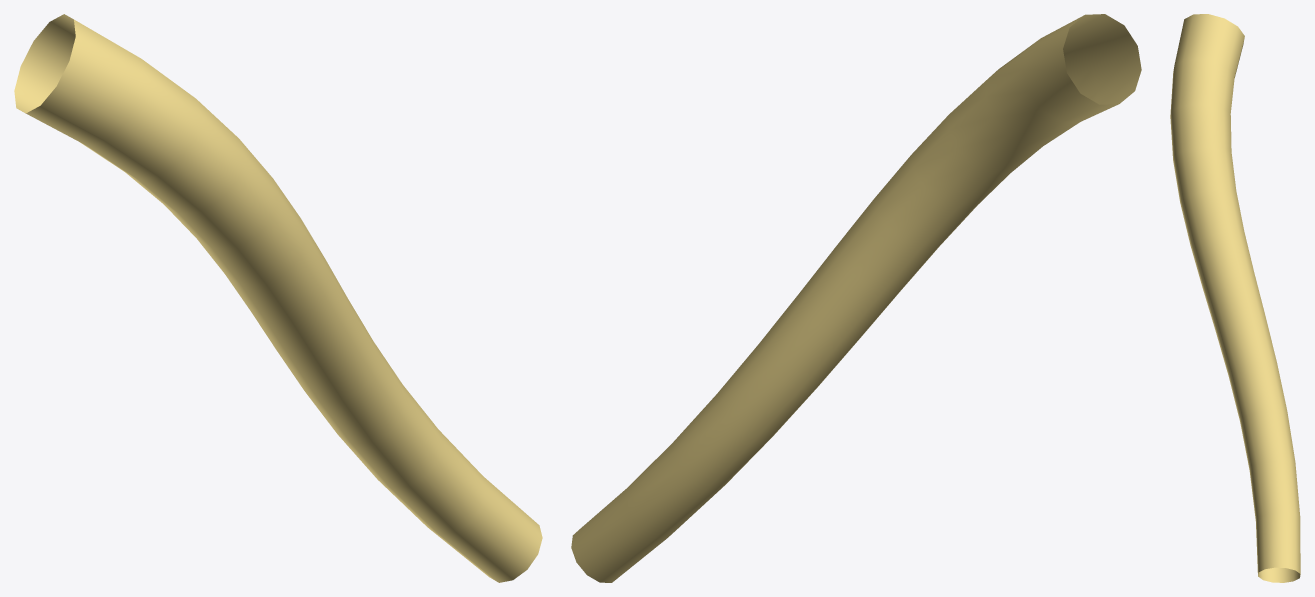
3 views of the same model, side by side, from view 1: azimuth 30°, elevation 25°; view 2: azimuth 150°, elevation 25°; view 3: azimuth 270°, elevation 25° (orthographic). The views are drawn at different scales.
Parts seen in each view (by area): view 1: ZA_7d955a91fe7aa85c; view 2: ZA_7d955a91fe7aa85c; view 3: ZA_7d955a91fe7aa85c.
Part boxes in pixels (x1,y1,x2,y2): ZA_7d955a91fe7aa85c: [14, 14, 542, 582]; ZA_7d955a91fe7aa85c: [571, 14, 1141, 582]; ZA_7d955a91fe7aa85c: [1170, 14, 1300, 582].
Bounding box in the file's own units: 0.0182 × 0.0218 × 0.00599.
